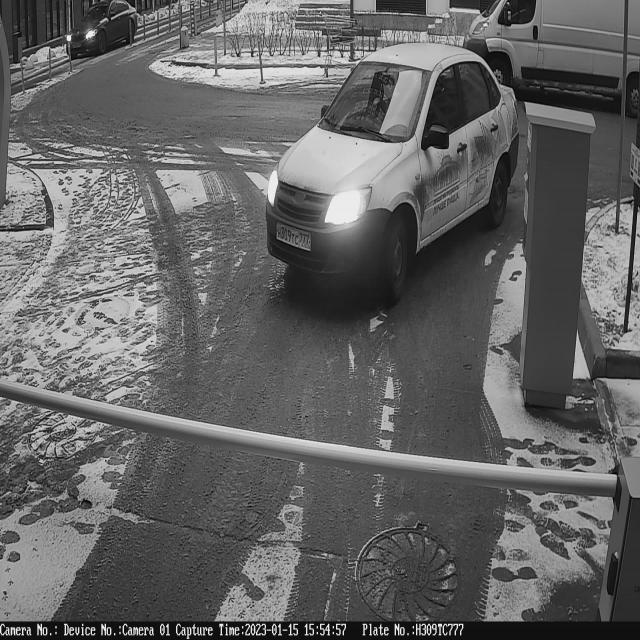car-plate-numbers: (273, 216, 315, 258)
